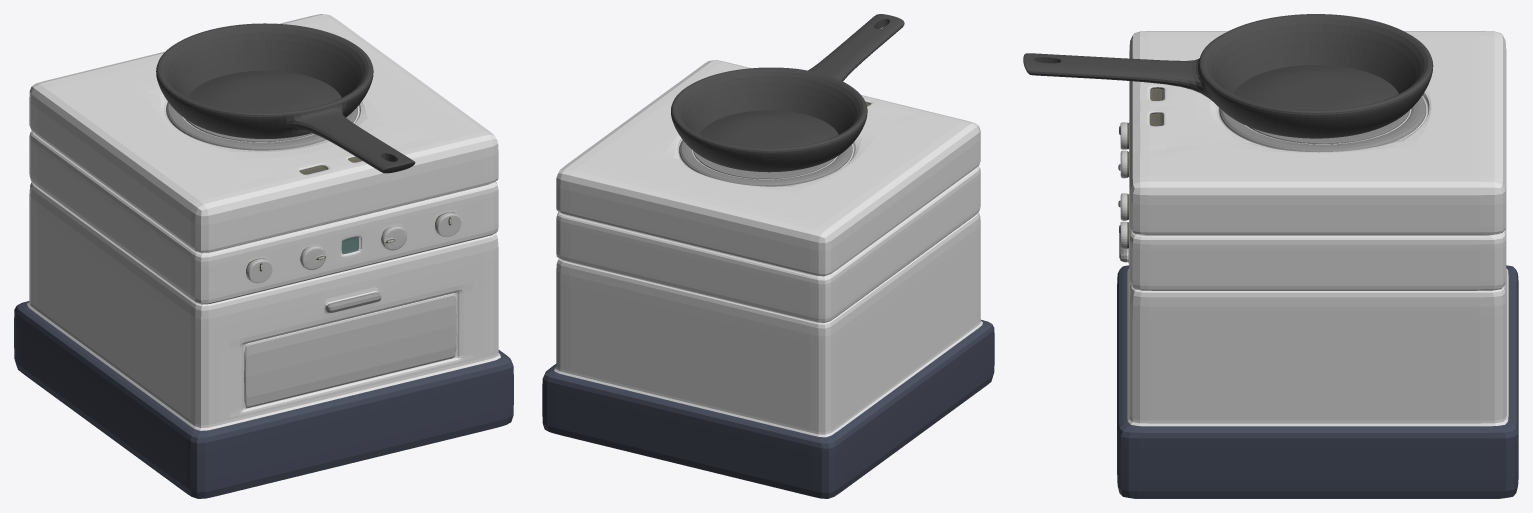
Rendered from Induction-frypan.fbx.
The picture shows the model from 3 angles, left to right: view 1: azimuth 30°, elevation 25°; view 2: azimuth 150°, elevation 25°; view 3: azimuth 270°, elevation 25°; orthographic projection. The views are drawn at different scales.
Parts seen in each view (by area): view 1: 큐브.052, 원형.010; view 2: 큐브.052, 원형.010; view 3: 큐브.052, 원형.010.
Part boxes in pixels (x1,y1,x2,y2): 큐브.052: [14, 14, 513, 498]; 원형.010: [156, 23, 415, 173]; 큐브.052: [542, 60, 994, 498]; 원형.010: [671, 14, 904, 172]; 큐브.052: [1117, 31, 1518, 498]; 원형.010: [1023, 14, 1433, 138].
Bounding box in the file's own units: 315 × 310 × 388.
